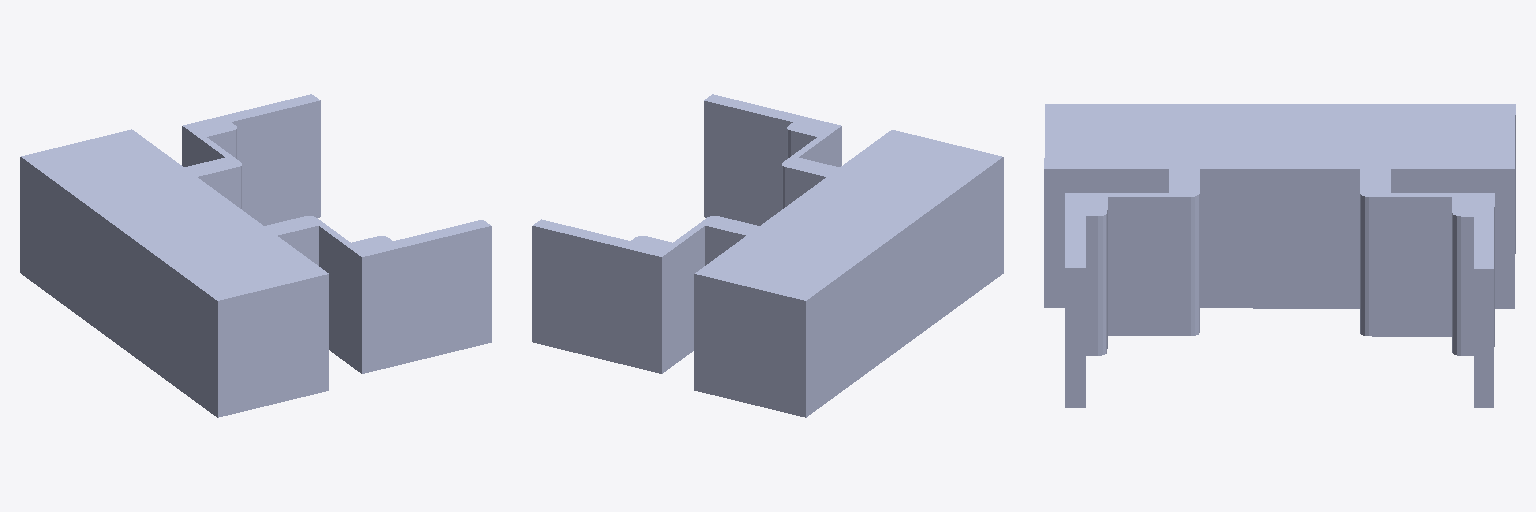
robot.urdf — kuka_kr10r1420:
<?xml version="1.0" ?>
<robot name="kuka_kr10r1420">
    <!-- ros_control plugin -->
    <!--
    <gazebo>
        <plugin filename="libgazebo_ros_control.so" name="gazebo_ros_control">
            <robotNamespace>/kuka_kr10r1420</robotNamespace>
            <robotSimType>gazebo_ros_control/DefaultRobotHWSim</robotSimType>
        </plugin>
    </gazebo>
    -->
    <gazebo reference="base_link">
        <material>Gazebo/Black</material>
        <mu1>0.1</mu1>
        <mu2>0.1</mu2>
    </gazebo>
    <gazebo reference="link_1">
        <material>Gazebo/Orange</material>
        <mu1>0.1</mu1>
        <mu2>0.1</mu2>
    </gazebo>
    <gazebo reference="link_2">
        <material>Gazebo/Orange</material>
        <mu1>0.1</mu1>
        <mu2>0.1</mu2>
    </gazebo>
    <gazebo reference="link_3">
        <material>Gazebo/Orange</material>
        <mu1>0.1</mu1>
        <mu2>0.1</mu2>
    </gazebo>
    <gazebo reference="link_4">
        <material>Gazebo/Orange</material>
        <mu1>0.1</mu1>
        <mu2>0.1</mu2>
    </gazebo>
    <gazebo reference="link_5">
        <material>Gazebo/Orange</material>
        <mu1>0.1</mu1>
        <mu2>0.1</mu2>
    </gazebo>
    <gazebo reference="link_6">
        <material>Gazebo/Orange</material>
        <mu1>0.1</mu1>
        <mu2>0.1</mu2>
    </gazebo>
    <gazebo reference="gripper_base">
        <material>Gazebo/Gold</material>
        <mu1>0.1</mu1>
        <mu2>0.1</mu2>
    </gazebo>
    <gazebo reference="finger_right">
        <material>Gazebo/Gold</material>
        <mu1>0.1</mu1>
        <mu2>0.1</mu2>
    </gazebo>
    <gazebo reference="finger_left">
        <material>Gazebo/Gold</material>
        <mu1>0.1</mu1>
        <mu2>0.1</mu2>
    </gazebo>
    <gazebo reference="base_link">
      <static>true</static>
      <turnGravityOff>true</turnGravityOff>
    </gazebo>



    <link name="base_link">
        <visual>
            <origin rpy="0 0 0" xyz="0 0 0" />
            <geometry>
                <mesh filename="package://kuka_kr10_support/meshes/kr10r1420/visual/base_link.stl" />
            </geometry>
            <material name="">
                <color rgba="0.054901960784313725 0.054901960784313725 0.06274509803921569 1.0" />
            </material>
        </visual>
        <collision>
            <origin rpy="0 0 0" xyz="0 0 0" />
            <geometry>
                <mesh filename="package://kuka_kr10_support/meshes/kr10r1420/collision/base_link.stl" />
            </geometry>
        </collision>        
	<inertial>
            <mass value="52.6664" />
            <origin rpy="0 0 0" xyz="-0.024332 -0.000227 0.124659" />
            <inertia ixx="0.6474" iyy="-0.002261" izz="-0.0148" ixy="0.8089" ixz="-0.0005985" iyz="0.8872" />
        </inertial>
    </link>
    
  
    <link name = "world"/>
    <joint name = "fixed" type = "fixed">
    	<parent link = "world"/>
    	<child link = "base_link"/>
    </joint>
    	
    	
    	
    <link name="link_1">
        <visual>
            <origin rpy="0 0 0" xyz="0 0 0" />
            <geometry>
                <mesh filename="package://kuka_kr10_support/meshes/kr10r1420/visual/link_1.stl" />
            </geometry>
            <material name="">
                <color rgba="0.9647058823529412 0.47058823529411764 0.1568627450980392 1.0" />
            </material>
        </visual>
        <collision>
            <origin rpy="0 0 0" xyz="0 0 0" />
            <geometry>
                <mesh filename="package://kuka_kr10_support/meshes/kr10r1420/collision/link_1.stl" />
            </geometry>
        </collision>
        <inertial>
            <mass value="64.7425" />
            <origin rpy="0 0 0" xyz="0.030634 0.027021 -0.054840" />
            <inertia ixx="1.0225" ixy="-0.008725" ixz="-0.02372" iyy="1.0808" iyz="-0.03267" izz="1.1400" />
        </inertial>
    </link>
    
    
    
    <link name="link_2">
        <visual>
            <origin rpy="0 0 0" xyz="0 0 0" />
            <geometry>
                <mesh filename="package://kuka_kr10_support/meshes/kr10r1420/visual/link_2.stl" />
            </geometry>
            <material name="">
                <color rgba="0.9647058823529412 0.47058823529411764 0.1568627450980392 1.0" />
            </material>
        </visual>
        <collision>
            <origin rpy="0 0 0" xyz="0 0 0" />
            <geometry>
                <mesh filename="package://kuka_kr10_support/meshes/kr10r1420/collision/link_2.stl" />
            </geometry>
        </collision>
        <inertial>
            <mass value="10.6532" />
            <origin rpy="0 0 0" xyz="0.268622 -0.135342 0.007101" />
            <inertia ixx="0.02242" ixy="0.009881" ixz="-0.001753" iyy="0.39866" iyz="0.0002086" izz="0.3909" />
        </inertial>
    </link>
    
    
    
    <link name="link_3">
        <visual>
            <origin rpy="0 0 0" xyz="0 0 0" />
            <geometry>
                <mesh filename="package://kuka_kr10_support/meshes/kr10r1420/visual/link_3.stl" />
            </geometry>
            <material name="">
                <color rgba="0.9647058823529412 0.47058823529411764 0.1568627450980392 1.0" />
            </material>
        </visual>
        <collision>
            <origin rpy="0 0 0" xyz="0 0 0" />
            <geometry>
                <mesh filename="package://kuka_kr10_support/meshes/kr10r1420/collision/link_3.stl" />
            </geometry>
        </collision>
        <inertial>
            <mass value="25.0907" />
            <origin rpy="0 0 0" xyz="0.101103 0.027129 0.001040" />
            <inertia ixx="0.1632" ixy="0.02016" ixz="-0.01753" iyy="0.3261" iyz="0.006974" izz="0.3974" />
        </inertial>
    </link>
    
    
    
    <link name="link_4">
        <visual>
            <origin rpy="0 0 0" xyz="0 0 0" />
            <geometry>
                <mesh filename="package://kuka_kr10_support/meshes/kr10r1420/visual/link_4.stl" />
            </geometry>
            <material name="">
                <color rgba="0.9647058823529412 0.47058823529411764 0.1568627450980392 1.0" />
            </material>
        </visual>
        <collision>
            <origin rpy="0 0 0" xyz="0 0 0" />
            <geometry>
                <mesh filename="package://kuka_kr10_support/meshes/kr10r1420/collision/link_4.stl" />
            </geometry>
        </collision>
        <inertial>
            <mass value="5.9403" />
            <origin rpy="0 0 0" xyz="0.494754 0.000046 0.000066" />
            <inertia ixx="0.01081" ixy="0.0001038" ixz="0.00002506" iyy="0.04533" iyz="0.00001522" izz="0.04716" />
        </inertial>
    </link>
    
    
    
    <link name="link_5">
        <visual>
            <origin rpy="0 0 0" xyz="0 0 0" />
            <geometry>
                <mesh filename="package://kuka_kr10_support/meshes/kr10r1420/visual/link_5.stl" />
            </geometry>
            <material name="">
                <color rgba="0.9647058823529412 0.47058823529411764 0.1568627450980392 1.0" />
            </material>
        </visual>
        <collision>
            <origin rpy="0 0 0" xyz="0 0 0" />
            <geometry>
                <mesh filename="package://kuka_kr10_support/meshes/kr10r1420/collision/link_5.stl" />
            </geometry>
        </collision>
        <inertial>
            <mass value="0.8788" />
            <origin rpy="0 0 0" xyz="0.015795 0.001915 -0.000032" />
            <inertia ixx="0.0006327" ixy="0.000030398" ixz="0.0000006177" iyy="0.0010503" iyz="0.0000006576" izz="0.00111801" />
        </inertial>
    </link>
    
    
    
    <link name="link_6">
        <visual>
            <origin rpy="0 0 0" xyz="0 0 0" />
            <geometry>
                <mesh filename="package://kuka_kr10_support/meshes/kr10r1420/visual/link_6.stl" />
            </geometry>
            <material name="">
                <color rgba="0.5058823529411764 0.47058823529411764 0.38823529411764707 1.0" />
            </material>
        </visual>
        <collision>
            <origin rpy="0 0 0" xyz="0 0 0" />
            <geometry>
                <mesh filename="package://kuka_kr10_support/meshes/kr10r1420/collision/link_6.stl" />
            </geometry>
        </collision>
        <inertial>
            <mass value="0.0279" />
            <origin rpy="0 0 0" xyz="-0.007515 0.000002 0.000043" />
            <inertia ixx="0.000006018" ixy="0.0" ixz="0.0" iyy="0.0000034076" iyz="0.0" izz="0.0000034076" />
        </inertial>
    </link>
    
      <link name="gripper_base">
    <inertial>
      <origin
        xyz="0.0201419011343415 -0.14488421675524 0.0596507179811779"
        rpy="0 0 0" />
      <mass
        value="0.3825" />
      <inertia
        ixx="0.000159375"
        ixy="1.32981913964399E-20"
        ixz="5.55287695165607E-20"
        iyy="0.000825849375"
        iyz="2.42793524000972E-21"
        izz="0.000825849375" />
    </inertial>
    <visual>
      <origin
        xyz="0 0 0"
        rpy="0 0 0" />
      <geometry>
        <mesh
          filename="package://kuka_kr10_support/meshes/kr10r1420/visual/gripper_base.STL" />
      </geometry>
      <material
        name="">
        <color
          rgba="0.792156862745098 0.819607843137255 0.933333333333333 1" />
      </material>
    </visual>
    <collision>
      <origin
        xyz="0 0 0"
        rpy="0 0 0" />
      <geometry>
        <mesh
          filename="package://kuka_kr10_support/meshes/kr10r1420/visual/gripper_base.STL" />
      </geometry>
    </collision>
  </link>
  
  <link name="finger_left">
    <inertial>
      <origin
        xyz="-0.028124 -0.010692 0.025"
        rpy="0 0 0" />
      <mass
        value="0.039517" />
      <inertia
        ixx="2.4456E-05"
        ixy="-9.1518E-06"
        ixz="9.6198E-22"
        iyy="1.7547E-05"
        iyz="1.5479E-21"
        izz="2.5537E-05" />
    </inertial>
    <visual>
      <origin
        xyz="0 0 0"
        rpy="0 0 0" />
      <geometry>
        <mesh
          filename="package://kuka_kr10_support/meshes/kr10r1420/visual/finger_left.STL" />
      </geometry>
      <material
        name="">
        <color
          rgba="0.79216 0.81961 0.93333 1" />
      </material>
    </visual>
    <collision>
      <origin
        xyz="0 0 0"
        rpy="0 0 0" />
      <geometry>
        <mesh
          filename="package://kuka_kr10_support/meshes/kr10r1420/visual/finger_left.STL" />
      </geometry>
    </collision>
  </link>
  <joint
    name="joint_left"
    type="prismatic">
    <origin
      xyz="-0.0058581 -0.19138 0.034651"
      rpy="0 0 0" />
    <parent
      link="gripper_base" />
    <child
      link="finger_left" />
    <axis
      xyz="1 0 0" />
    <limit
      lower="0"
      upper="0"
      effort="0"
      velocity="0" />
  </joint>
  <link
    name="finger_right">
    <inertial>
      <origin
        xyz="-0.028124 -0.010692 0.025"
        rpy="0 0 0" />
      <mass
        value="0.039517" />
      <inertia
        ixx="2.4456E-05"
        ixy="-9.1518E-06"
        ixz="-1.3563E-21"
        iyy="1.7547E-05"
        iyz="-2.8258E-21"
        izz="2.5537E-05" />
    </inertial>
    <visual>
      <origin
        xyz="0 0 0"
        rpy="0 0 0" />
      <geometry>
        <mesh
          filename="package://kuka_kr10_support/meshes/kr10r1420/visual/finger_right.STL" />
      </geometry>
      <material
        name="">
        <color
          rgba="0.79216 0.81961 0.93333 1" />
      </material>
    </visual>
    <collision>
      <origin
        xyz="0 0 0"
        rpy="0 0 0" />
      <geometry>
        <mesh
          filename="package://kuka_kr10_support/meshes/kr10r1420/visual/finger_right.STL" />
      </geometry>
    </collision>
  </link>
  <joint
    name="joint_right"
    type="prismatic">
    <origin
      xyz="0.046142 -0.19138 0.084651"
      rpy="-3.1416 0 3.1416" />
    <parent
      link="gripper_base" />
    <child
      link="finger_right" />
    <axis
      xyz="1 0 0" />
    <limit
      lower="0"
      upper="0"
      effort="0"
      velocity="0" />
  </joint>
    
    
    
    <!-- Following REP199, this frame shall be use to attach EEF or other equipment -->
    <link name="flange" />
    <joint name="joint_a1" type="revolute">
        <origin rpy="0 0 0" xyz="0 0 0.450" />
        <parent link="base_link" />
        <child link="link_1" />
        <axis xyz="0 0 -1" />
        <dynamics damping="0.1" friction="150"/>
        <limit effort="300" lower="-2.9670597283903604" upper="2.9670597283903604" velocity="3.839724354387525" />
    </joint>
    <joint name="joint_a2" type="revolute">
        <origin rpy="0 0 0" xyz="0.150 0 0" />
        <parent link="link_1" />
        <child link="link_2" />
        <axis xyz="0 1 0" />
        <limit effort="1500" lower="-3.2288591161895095" upper="1.1344640137963142" velocity="3.6651914291880923" />
        <dynamics damping="100.0" friction="1500"/>
    </joint>
    <joint name="joint_a3" type="revolute">
        <origin rpy="0 0 0" xyz="0.610 0 0" />
        <parent link="link_2" />
        <child link="link_3" />
        <axis xyz="0 1 0" />
        <limit effort="300" lower="-2.3911010752322315" upper="2.8448866807507573" velocity="4.71238898038469" />
        <dynamics damping="0.1" friction="150"/>
    </joint>
    <joint name="joint_a4" type="revolute">
        <origin rpy="0 0 0" xyz="0 0 0.02" />
        <parent link="link_3" />
        <child link="link_4" />
        <axis xyz="-1 0 0" />
        <limit effort="300" lower="-3.2288591161895095" upper="3.2288591161895095" velocity="6.649704450098396" />
        <dynamics damping="0.1" friction="150"/>
    </joint>
    <joint name="joint_a5" type="revolute">
        <origin rpy="0 0 0" xyz="0.660 0 0" />
        <parent link="link_4" />
        <child link="link_5" />
        <axis xyz="0 1 0" />
        <limit effort="300" lower="-2.0943951023931953" upper="2.0943951023931953" velocity="5.427973973702365" />
        <dynamics damping="0.1" friction="28"/>
    </joint>
    <joint name="joint_a6" type="revolute">
        <origin rpy="0 0 0" xyz="0.080 0 0" />
        <parent link="link_5" />
        <child link="link_6" />
        <axis xyz="-1 0 0" />
        <limit effort="300" lower="-6.1086523819801535" upper="6.1086523819801535" velocity="8.587019919812102" />
        <dynamics damping="0.1" friction="28"/>
    </joint>
    <joint name="joint_a6-flange" type="fixed">
        <parent link="link_6" />
        <child link="flange" />
        <origin rpy="0 0 0" xyz="0 0 0" />
    </joint>
    
     <joint name="joint_gripper" type="revolute">
        <origin rpy="0 0 1.57" xyz="0 0 0" />
        <parent link="link_6" />
        <child link="gripper_base" />
        <axis xyz="-1 0 0" />
        <limit effort="300" lower="-6.1086523819801535" upper="6.1086523819801535" velocity="8.587019919812102" />
        <dynamics damping="0.1" friction="28"/>
    </joint>
    
    <!-- ROS base_link to KUKA $ROBROOT coordinate system transform -->
    <link name="base" />
    <joint name="base_link-base" type="fixed">
        <origin rpy="0 0 0" xyz="0 0 0" />
        <parent link="base_link" />
        <child link="base" />
    </joint>
    <!-- This frame corresponds to the $TOOL coordinate system in KUKA KRC controllers -->
    <link name="tool0" />
    <joint name="flange-tool0" type="fixed">
        <parent link="flange" />
        <child link="tool0" />
        <origin rpy="0 1.5707963267948966 0" xyz="0 0 0" />
    </joint>
    
    
    
    
    
    
	<gazebo reference="link_1">
      <selfCollide>true</selfCollide>
    </gazebo>
    <gazebo reference="link_2">
      <selfCollide>true</selfCollide>
    </gazebo>
    <gazebo reference="link_3">
      <selfCollide>true</selfCollide>
    </gazebo>
    <gazebo reference="link_4">
      <selfCollide>true</selfCollide>
    </gazebo>
    <gazebo reference="link_5">
      <selfCollide>true</selfCollide>
    </gazebo>
    <gazebo reference="link_6">
      <selfCollide>true</selfCollide>
    </gazebo>
    <gazebo reference="base_link">
      <selfCollide>true</selfCollide>
    </gazebo>
    <gazebo reference="gripper_base">
      <selfCollide>true</selfCollide>
    </gazebo>
    <gazebo reference="finger_right">
      <selfCollide>true</selfCollide>
    </gazebo>
    <gazebo reference="finger_left">
      <selfCollide>true</selfCollide>
    </gazebo>
    
    
   
<transmission name="trans_joint_a1">
        <type>transmission_interface/SimpleTransmission</type>
        <joint name="joint_a1">
            <hardwareInterface>hardware_interface/EffortJointInterface</hardwareInterface>
        </joint>
        <actuator name="joint_a1_motor">
            <hardwareInterface>hardware_interface/EffortJointInterface</hardwareInterface>
            <mechanicalReduction>1</mechanicalReduction>
        </actuator>
    </transmission>
    <transmission name="trans_joint_a2">
        <type>transmission_interface/SimpleTransmission</type>
        <joint name="joint_a2">
            <hardwareInterface>hardware_interface/EffortJointInterface</hardwareInterface>
        </joint>
        <actuator name="joint_a2_motor">
            <hardwareInterface>hardware_interface/EffortJointInterface</hardwareInterface>
            <mechanicalReduction>1</mechanicalReduction>
        </actuator>
    </transmission>
    <transmission name="trans_joint_a3">
        <type>transmission_interface/SimpleTransmission</type>
        <joint name="joint_a3">
            <hardwareInterface>hardware_interface/EffortJointInterface</hardwareInterface>
        </joint>
        <actuator name="joint_a3_motor">
            <hardwareInterface>hardware_interface/EffortJointInterface</hardwareInterface>
            <mechanicalReduction>1</mechanicalReduction>
        </actuator>
    </transmission>
    <transmission name="trans_joint_a4">
        <type>transmission_interface/SimpleTransmission</type>
        <joint name="joint_a4">
            <hardwareInterface>hardware_interface/EffortJointInterface</hardwareInterface>
        </joint>
        <actuator name="joint_a4_motor">
            <hardwareInterface>hardware_interface/EffortJointInterface</hardwareInterface>
            <mechanicalReduction>1</mechanicalReduction>
        </actuator>
    </transmission>
    <transmission name="trans_joint_a5">
        <type>transmission_interface/SimpleTransmission</type>
        <joint name="joint_a5">
            <hardwareInterface>hardware_interface/EffortJointInterface</hardwareInterface>
        </joint>
        <actuator name="joint_a5_motor">
            <hardwareInterface>hardware_interface/EffortJointInterface</hardwareInterface>
            <mechanicalReduction>1</mechanicalReduction>
        </actuator>
    </transmission>
    <transmission name="trans_joint_a6">
        <type>transmission_interface/SimpleTransmission</type>
        <joint name="joint_a6">
            <hardwareInterface>hardware_interface/EffortJointInterface</hardwareInterface>
        </joint>
        <actuator name="joint_a6_motor">
            <hardwareInterface>hardware_interface/EffortJointInterface</hardwareInterface>
            <mechanicalReduction>1</mechanicalReduction>
        </actuator>
    </transmission>
    <transmission name="trans_joint_gripper">
        <type>transmission_interface/SimpleTransmission</type>
        <joint name="joint_gripper">
            <hardwareInterface>hardware_interface/EffortJointInterface</hardwareInterface>
        </joint>
        <actuator name="joint_gripper_motor">
            <hardwareInterface>hardware_interface/EffortJointInterface</hardwareInterface>
            <mechanicalReduction>1</mechanicalReduction>
        </actuator>
    </transmission>
    <transmission name="trans_joint_left">
        <type>transmission_interface/SimpleTransmission</type>
        <joint name="joint_left">
            <hardwareInterface>hardware_interface/EffortJointInterface</hardwareInterface>
        </joint>
        <actuator name="joint_left_motor">
            <hardwareInterface>hardware_interface/EffortJointInterface</hardwareInterface>
            <mechanicalReduction>1</mechanicalReduction>
        </actuator>
    </transmission>
    <transmission name="trans_joint_right">
        <type>transmission_interface/SimpleTransmission</type>
        <joint name="joint_right">
            <hardwareInterface>hardware_interface/EffortJointInterface</hardwareInterface>
        </joint>
        <actuator name="joint_right_motor">
            <hardwareInterface>hardware_interface/EffortJointInterface</hardwareInterface>
            <mechanicalReduction>1</mechanicalReduction>
        </actuator>
    </transmission>
 
    <gazebo>
        <plugin name="gazebo_ros_control" filename="libgazebo_ros_control.so">
            <robotNamespace>/</robotNamespace>
        </plugin>
    </gazebo>
</robot>

--- Facts derived from the render (not from the file) ---
Views: 3 orthographic renders of the robot side by side, from view 1: azimuth 30°, elevation 25°; view 2: azimuth 150°, elevation 25°; view 3: azimuth 270°, elevation 25°.
Model kuka_kr10r1420 with 14 links and 13 joints (7 revolute, 2 prismatic, 4 fixed), rooted at world, posed every joint at zero.
Visible links, largest first — view 1: gripper_base, finger_left, finger_right; view 2: gripper_base, finger_right, finger_left; view 3: gripper_base, finger_right, finger_left.
Boxes of the visible links, x1,y1,x2,y2 form: gripper_base: [20, 129, 328, 417]; finger_left: [265, 216, 491, 373]; finger_right: [182, 94, 320, 225]; gripper_base: [694, 130, 1003, 417]; finger_right: [532, 216, 758, 373]; finger_left: [704, 94, 841, 225]; gripper_base: [1044, 104, 1515, 308]; finger_right: [1360, 169, 1494, 407]; finger_left: [1065, 169, 1199, 407].
Size in the robot's own frame: 0.1266 by 0.153 by 0.05 metres.
3 mesh visuals loaded from 10 distinct referenced files (3 binary STL); not drawn: 7 (reference not matched to a file when rendering).